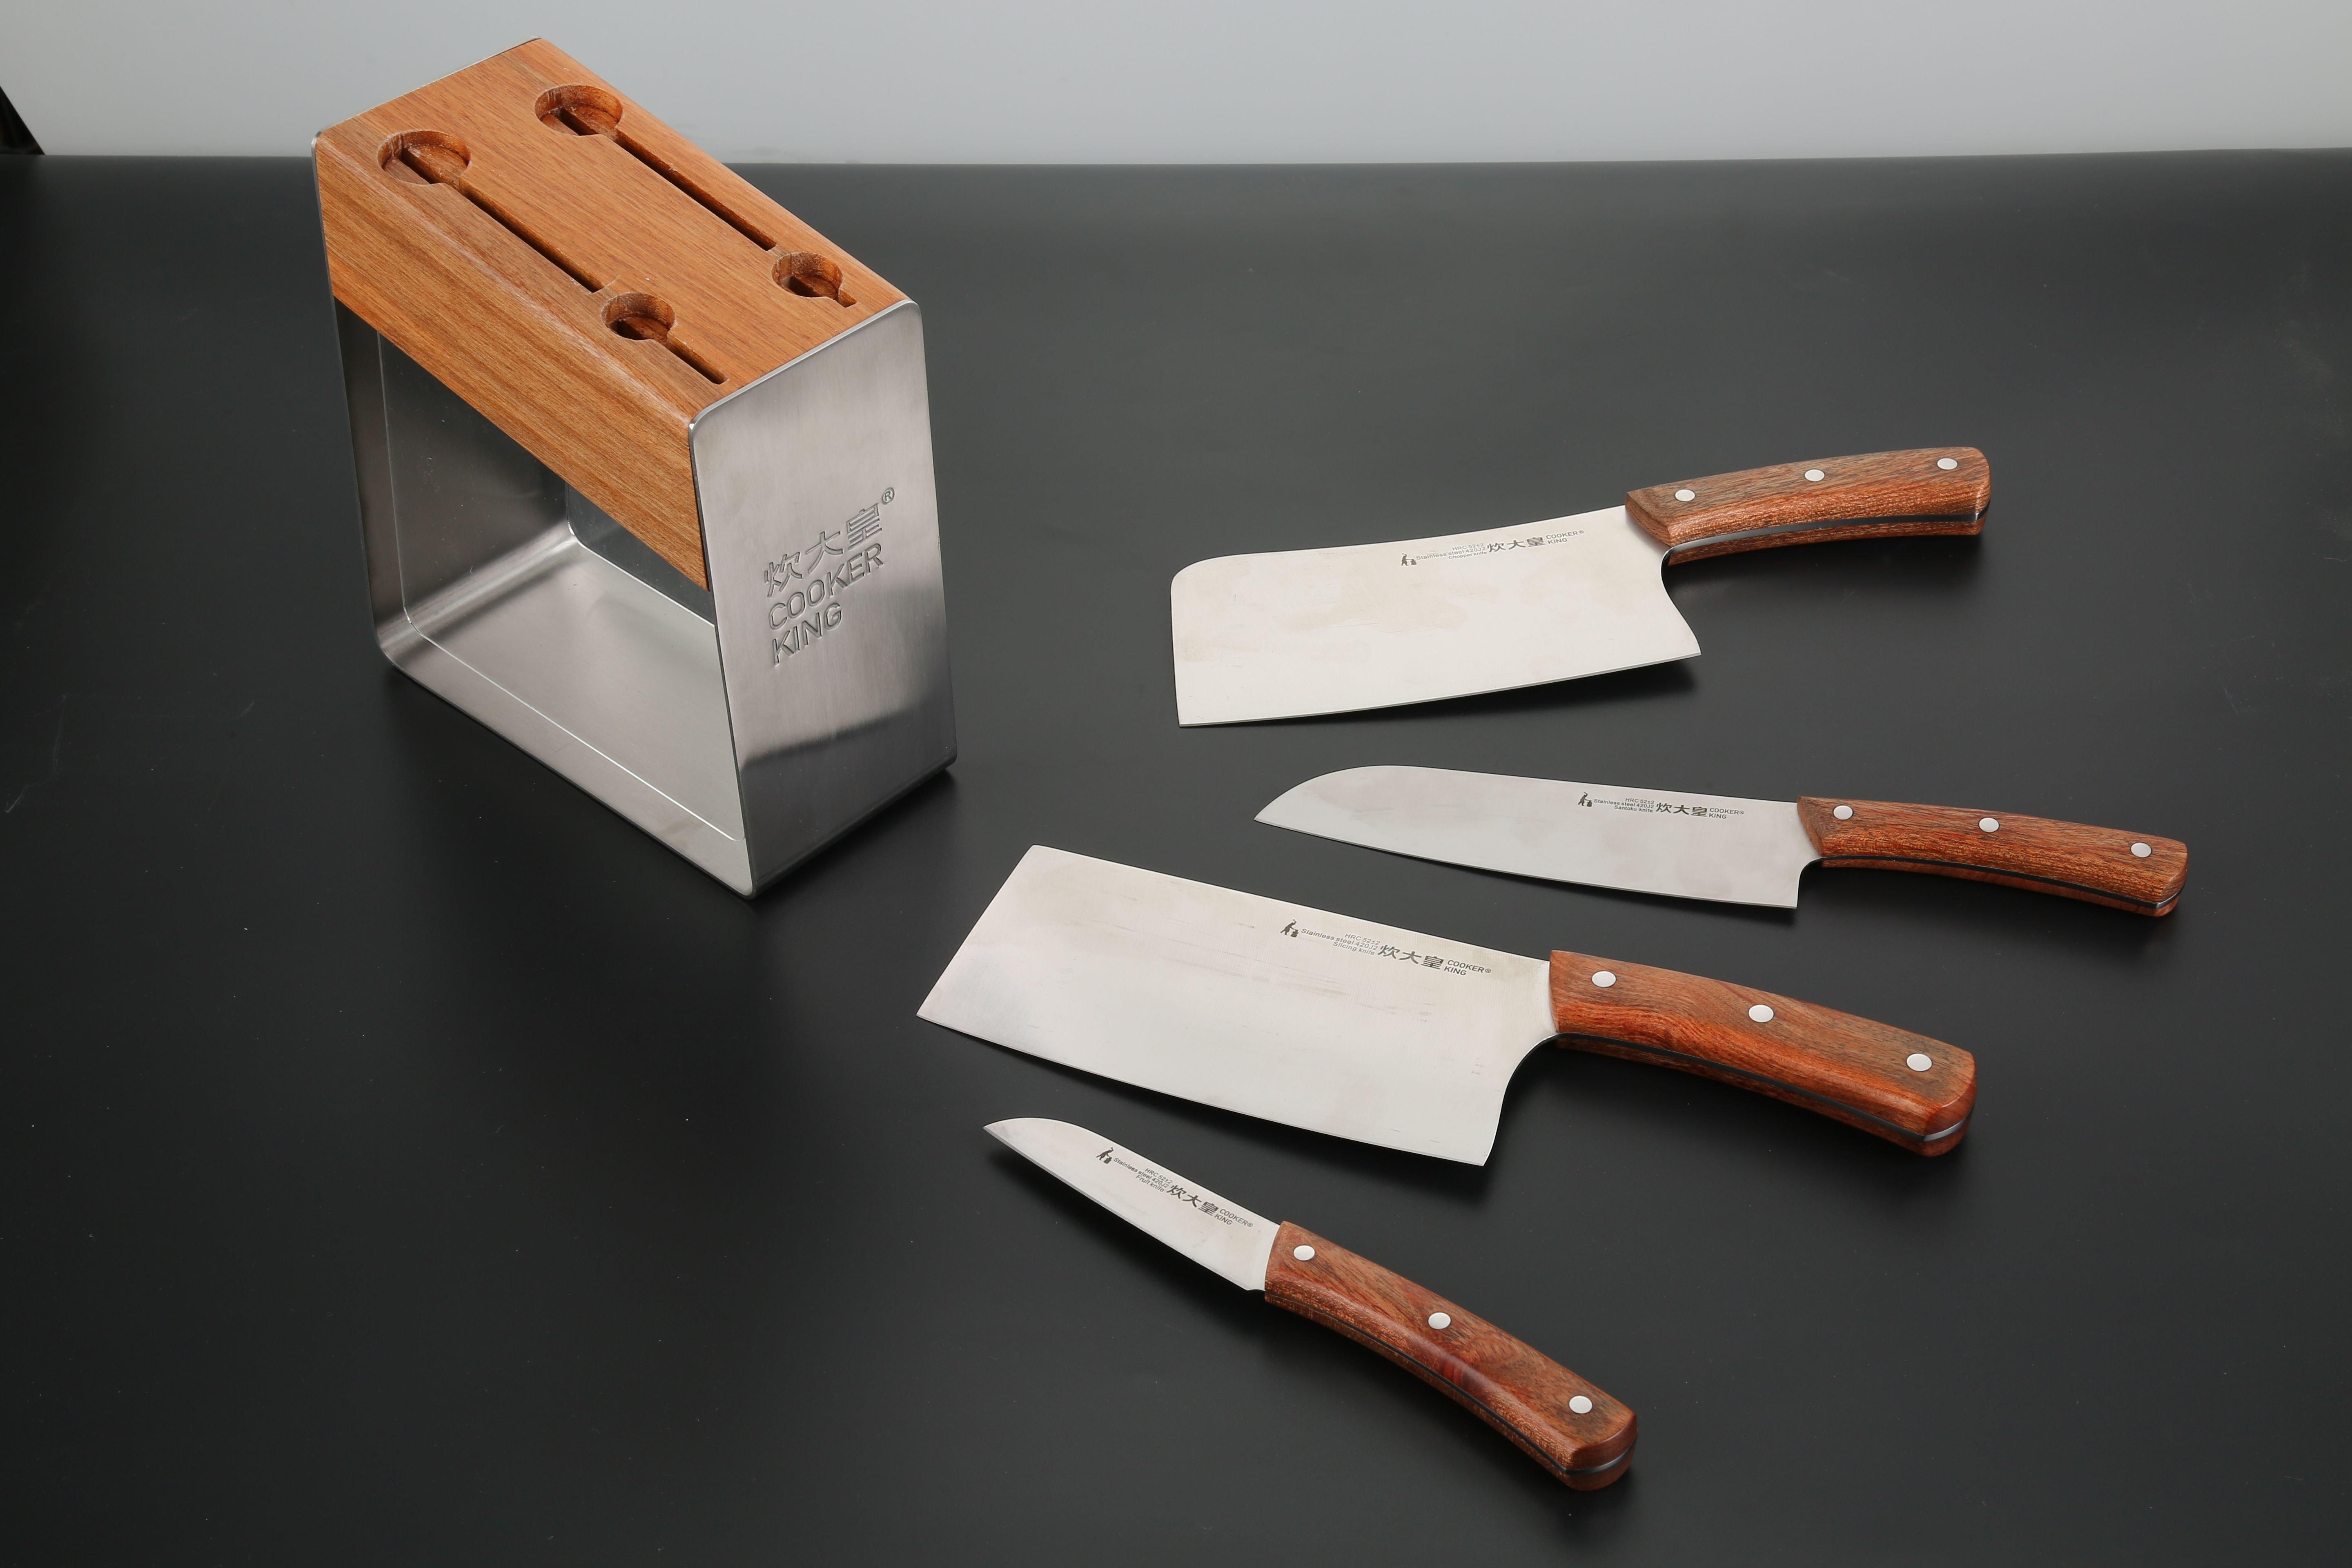knife: (894, 822, 2005, 1246), (947, 1090, 1683, 1521), (1139, 422, 2061, 737), (1223, 740, 2229, 954)
